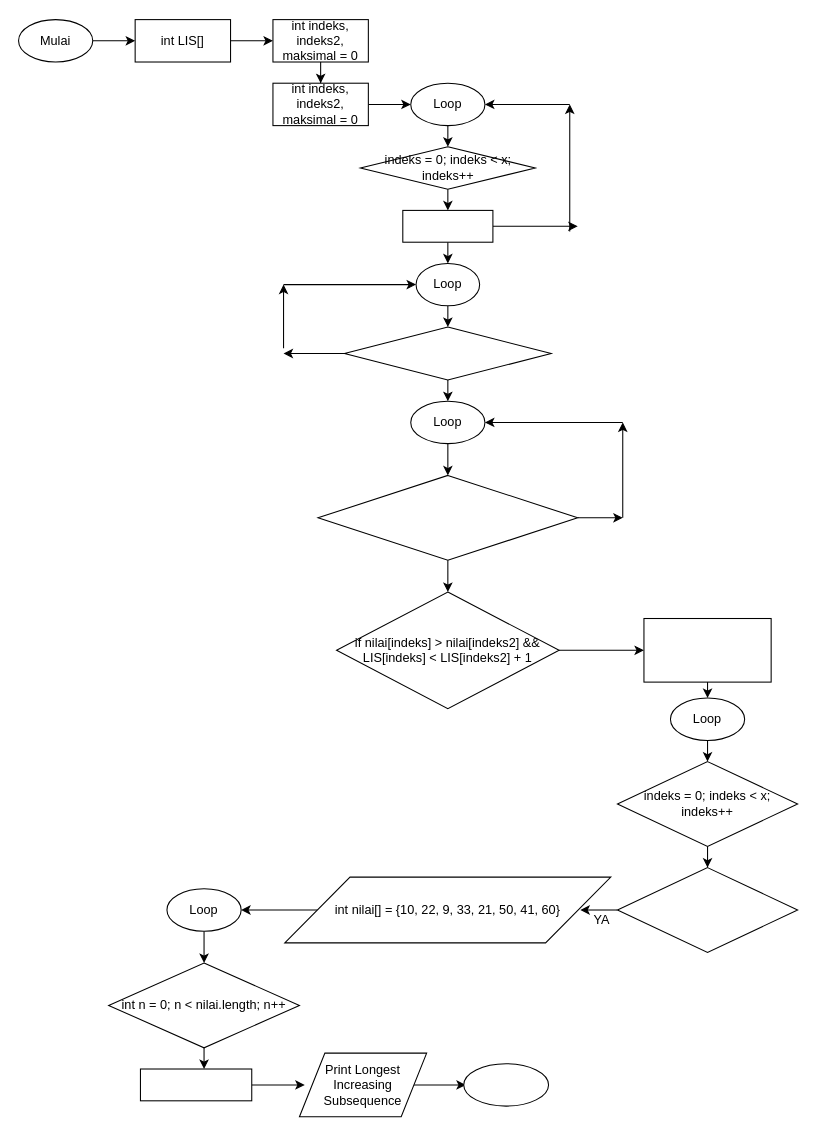
The diagram is 816 pixels wide and 1135 high, and some of its shapes have lost their labels. Here are the shapes that lost their labels. From the top down, the centre of each, then its label:
At (447,225): "LIS = 1".
At (447,353): "indeks = 1; indeks < x; indeks++".
At (447,517): "indeks2 = 0; indeks2 < indeks; indeks2++".
At (707,649): "LIS[indeks] = LIS[indeks2] + 1".
At (707,909): "if maksimal < LIS[indeks]".
At (195,1084): "int n = nilai".
At (506,1084): "Selesai".
